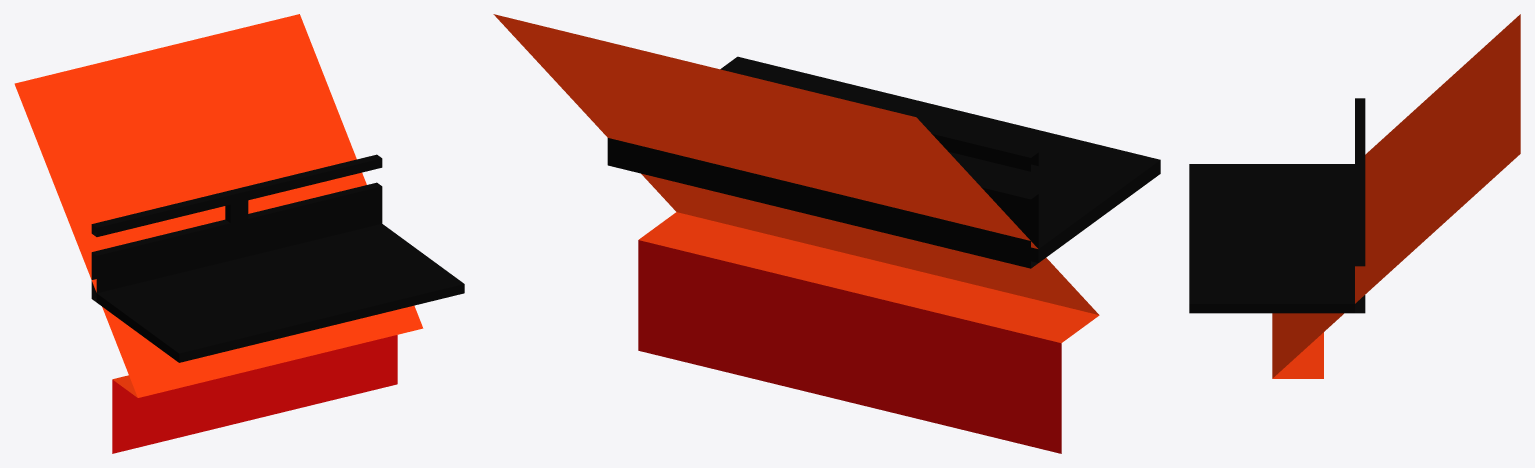
3 renders of one model, left to right at view 1: azimuth 30°, elevation 25°; view 2: azimuth 150°, elevation 25°; view 3: azimuth 270°, elevation 25°, orthographic. The views are drawn at different scales.
Parts seen in each view (by area): view 1: None_S_P_E_E_S_P_E_E_None; view 2: None_S_P_E_E_S_P_E_E_None; view 3: None_S_P_E_E_S_P_E_E_None.
Boxes of the visible parts, x1,y1,x2,y2 form: None_S_P_E_E_S_P_E_E_None: (14, 14, 464, 453); None_S_P_E_E_S_P_E_E_None: (493, 14, 1160, 453); None_S_P_E_E_S_P_E_E_None: (1189, 14, 1520, 378).
Size of the model in its own units: 100 by 100 by 100.
